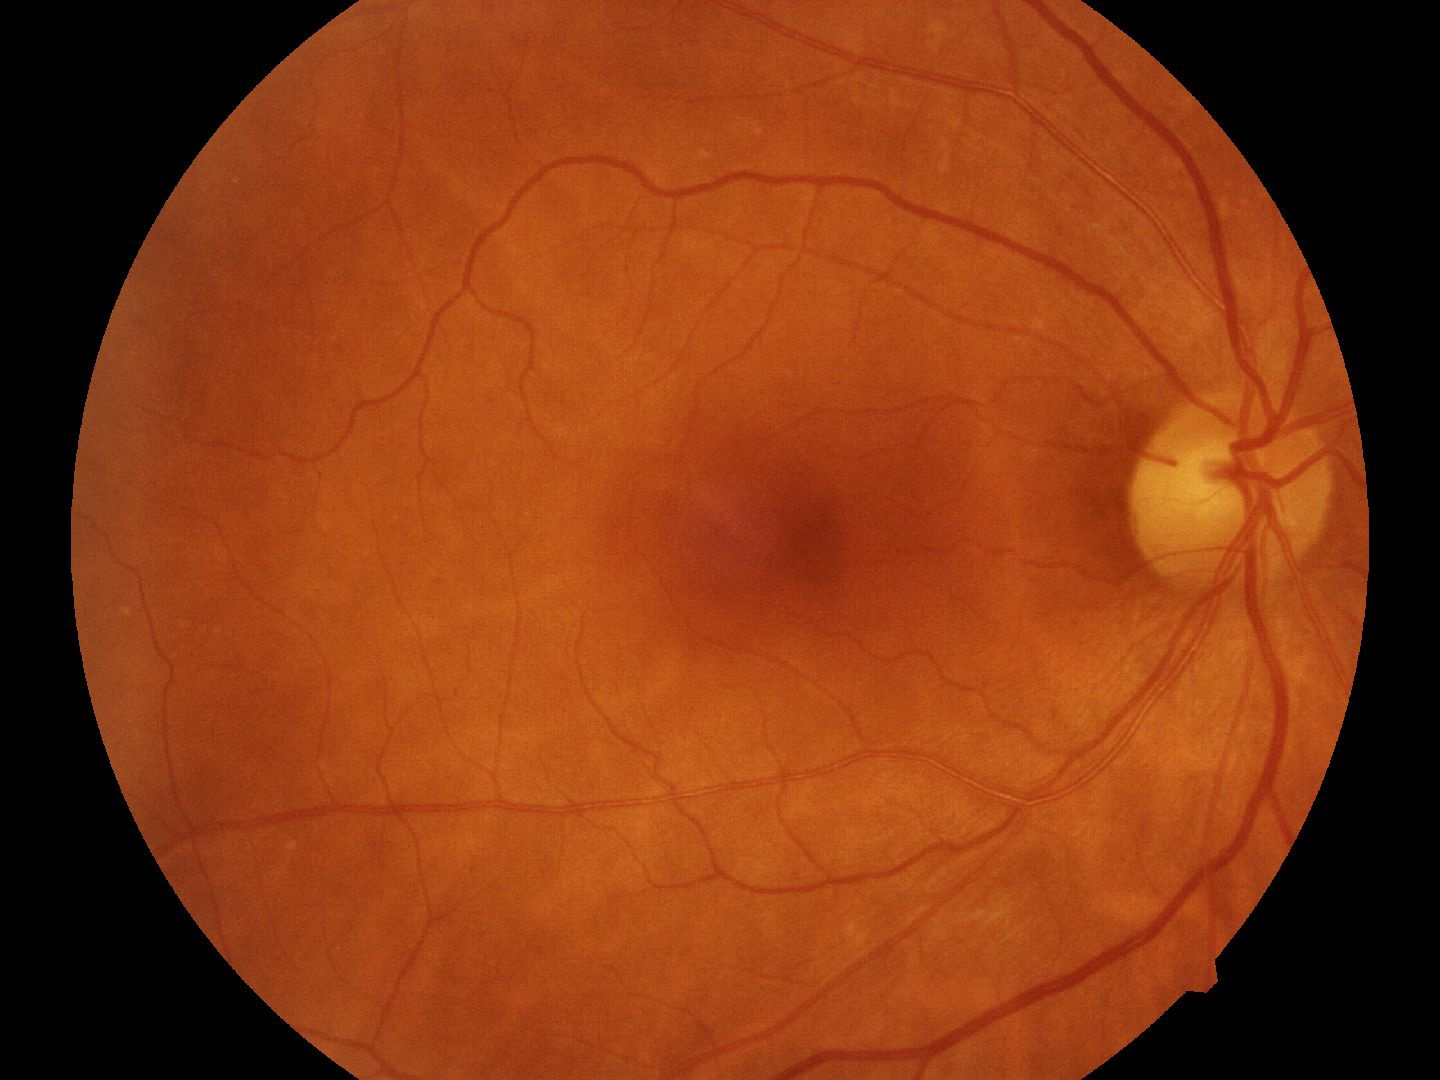Hemorrhages: (655, 442, 848, 656)
Optic-Disc: (1150, 353, 1341, 615)
Venules: (1087, 799, 1244, 938), (1181, 140, 1245, 341)
